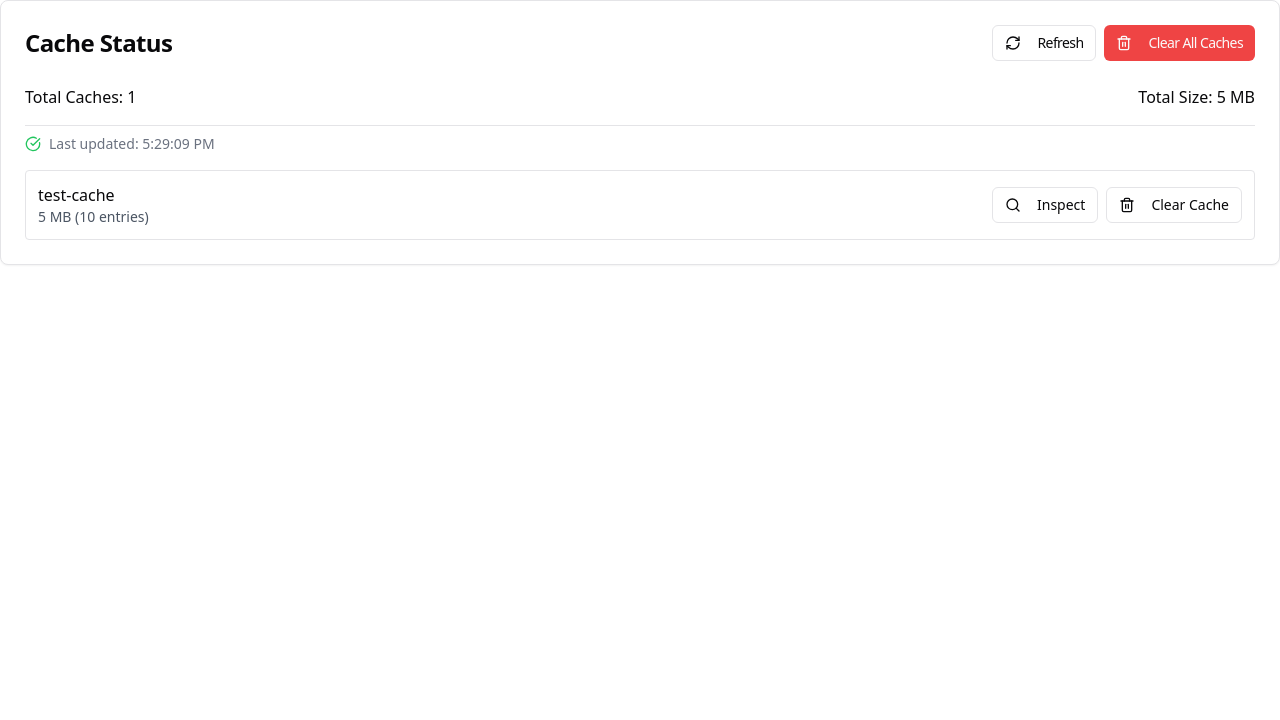
Scenario: CacheManager Component › Cache Management Actions › should show confirmation dialog before clearing caches
Check: the text "Total Caches: 1" is shown, box x1=25 y1=85 x2=136 y2=109
What coordinates should you click on to do the following:
click the button "Clear All Caches"
I would click on:
 (1180, 43)
Its box is x1=1104 y1=25 x2=1255 y2=61.
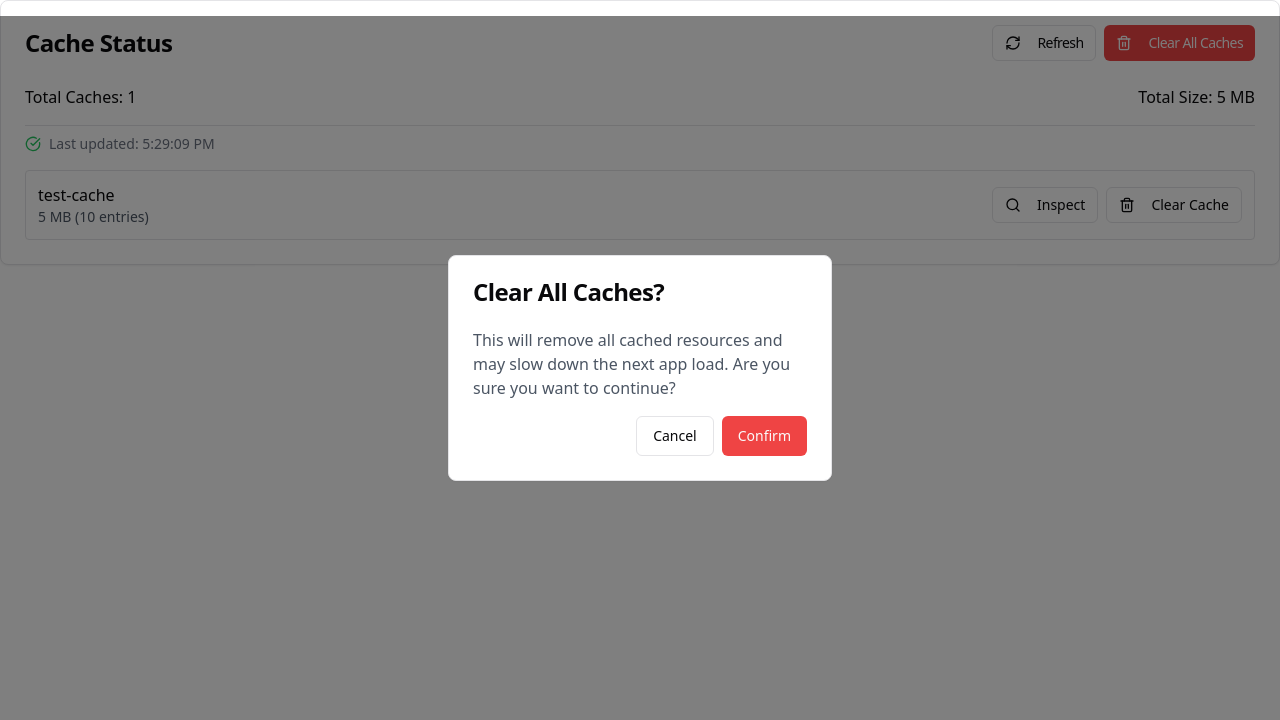
Check: the heading "Clear All Caches?" is shown, box x1=473 y1=275 x2=664 y2=308
Check: the text "This will remove all cached resources" is shown, box x1=473 y1=329 x2=790 y2=399
Check: the button "Confirm" is shown, box x1=722 y1=416 x2=807 y2=456
